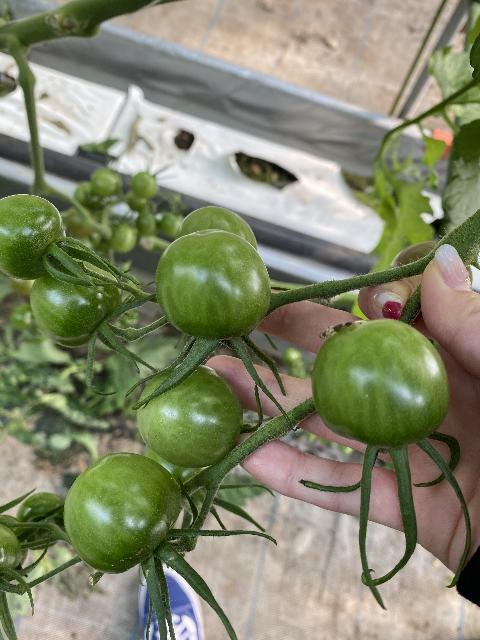l_green: (310, 318, 451, 448), (62, 452, 183, 574), (155, 229, 271, 340), (137, 364, 244, 467), (29, 267, 123, 349), (0, 194, 67, 281), (173, 206, 257, 250), (16, 491, 66, 551)
